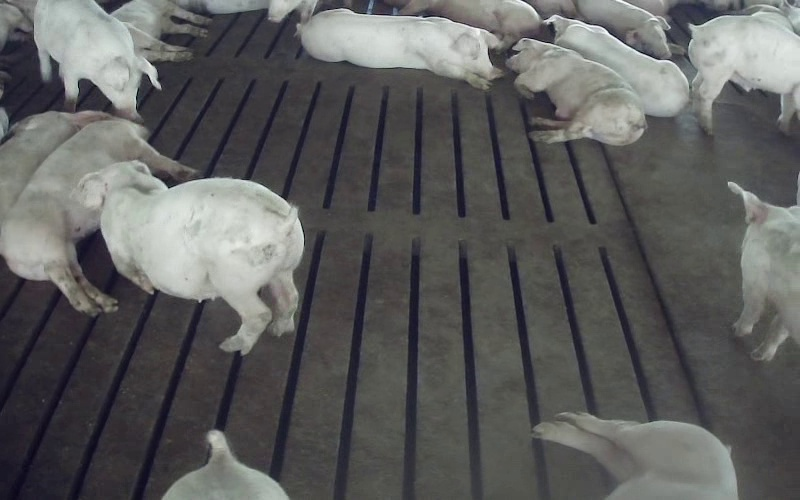pig: (78, 161, 303, 354), (0, 119, 197, 315), (298, 9, 501, 89), (34, 0, 160, 121), (506, 38, 646, 144), (546, 15, 687, 116), (688, 16, 799, 134), (0, 111, 111, 225), (729, 182, 799, 360), (400, 0, 541, 48), (111, 0, 210, 61), (575, 0, 671, 58)
